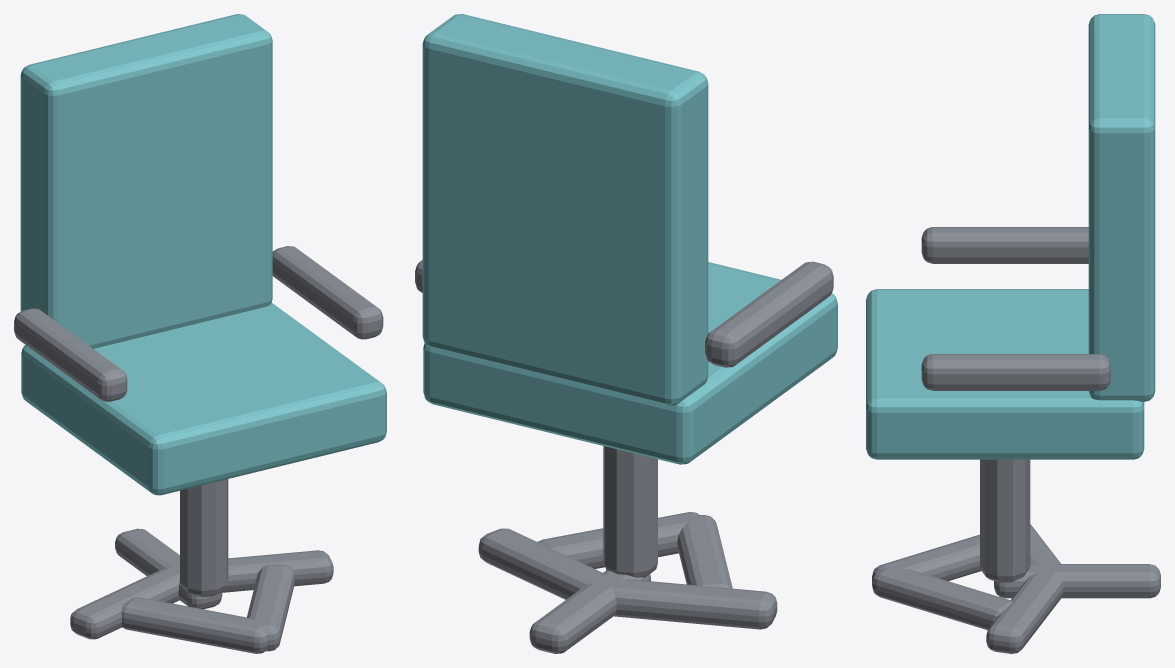
Rendered from OfficeChair.fbx.
3 views of the same model, side by side, from view 1: azimuth 30°, elevation 25°; view 2: azimuth 150°, elevation 25°; view 3: azimuth 270°, elevation 25° (orthographic). The views are drawn at different scales.
Parts seen in each view (by area): view 1: OfficeChair; view 2: OfficeChair; view 3: OfficeChair.
Part boxes in pixels (x1,y1,x2,y2): OfficeChair: [14, 14, 386, 653]; OfficeChair: [415, 14, 837, 653]; OfficeChair: [866, 14, 1160, 653].
Size of the model in its own units: 0.6 by 1.05 by 0.53.
